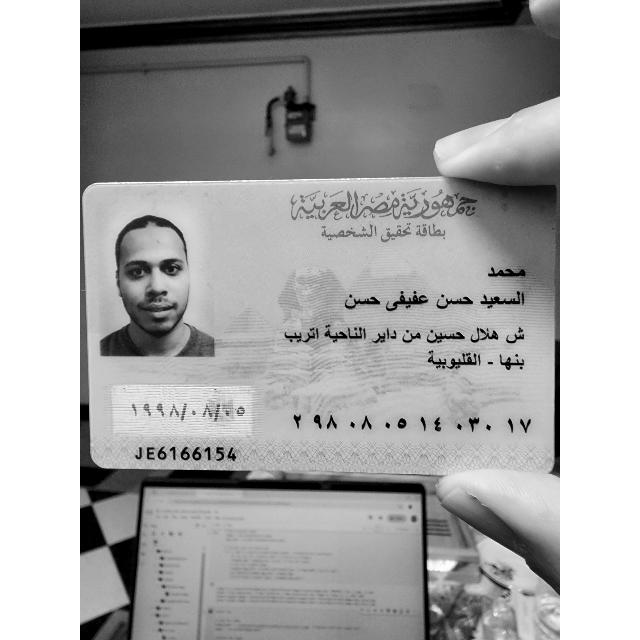front: (83, 182, 550, 468)
